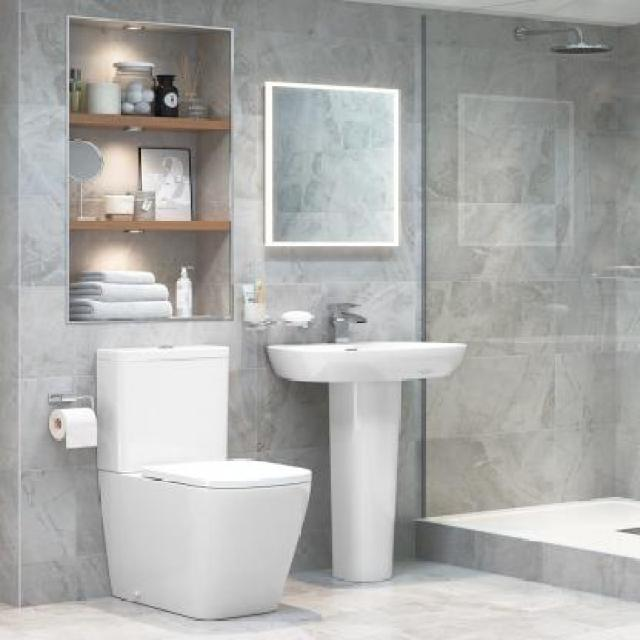floor: (1, 554, 640, 640)
